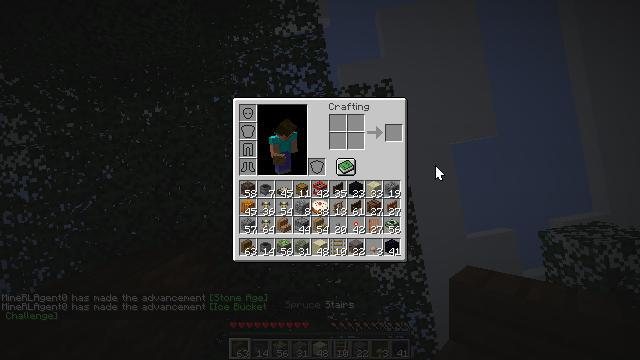cursor: (435, 165, 445, 181)
